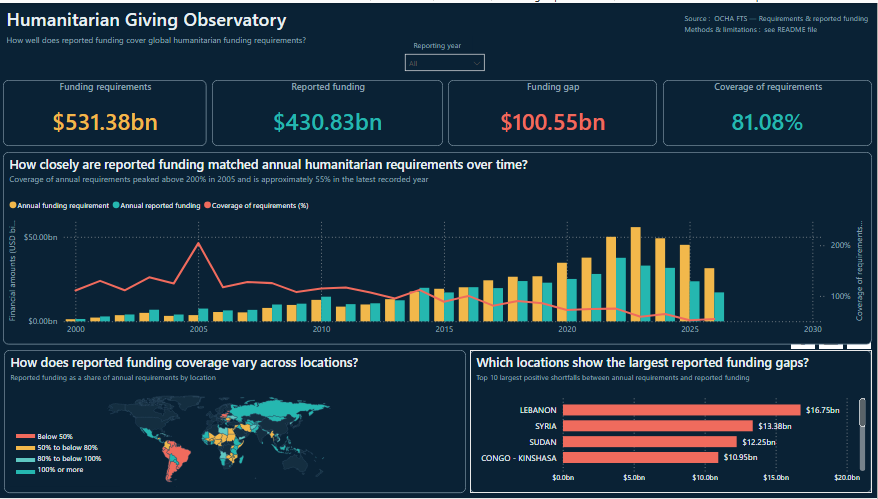

This screenshot's page, from the dashboard's own definition file:
{"tool":"powerbi","page":{"name":"Overview","canvas":[1280,720],"ordinal":0},"visuals":[{"type":"shapeMap","title":"How does reported funding coverage vary across locations?","fields":{"Category":["dim_requirements_location.country_name"]},"box":[9.8,504,672,208],"z":0,"group":"g2"},{"type":"clusteredBarChart","title":"Which locations show the largest reported funding gaps?","fields":{"Category":["dim_requirements_location.country_name"],"Y":["Measurements.funding_gap_shortfall"]},"box":[688,504,584,208],"z":0},{"type":"textbox","box":[17.8,616,160.4,86.7],"z":0,"group":"g1"},{"type":"group","id":"g1","title":"Group 1","box":[17.8,616,160.4,86.7],"z":1000,"group":"g2"},{"type":"shape","box":[27.2,616,28.3,26],"z":1000,"group":"g1"},{"type":"lineClusteredColumnComboChart","title":"How closely are reported funding matched annual humanitarian requirements over time? ","fields":{"Category":["fact_requirements_funding.reporting_year"],"Y":["Measurements.requirements_total","Measurements.requirements_reported_funding"],"Y2":["Measurements.coverage_percent"]},"box":[8,216,1264,280],"z":2000},{"type":"shape","box":[27.2,633.3,28.3,26],"z":2000,"group":"g1"},{"type":"group","id":"g2","title":"Map","box":[9.8,504,672,208],"z":3000},{"type":"shape","box":[27.2,650.7,28.3,26],"z":3000,"group":"g1"},{"type":"cardVisual","title":"Funding requirements","fields":{"Data":["Measurements.requirements_total"]},"box":[8,112,296,96],"z":4000},{"type":"shape","box":[27.2,668,28.3,26],"z":4000,"group":"g1"},{"type":"cardVisual","title":"Reported funding","fields":{"Data":["Measurements.requirements_reported_funding"]},"box":[312,112,336,96],"z":5000},{"type":"cardVisual","title":"Funding gap","fields":{"Data":["Measurements.funding_gap_shortfall"]},"box":[656,112,304,96],"z":6000},{"type":"cardVisual","title":"Coverage of requirements","fields":{"Data":["Measurements.coverage_percent"]},"box":[968,112,304,96],"z":7000},{"type":"textbox","box":[992,16,288,64],"z":9000},{"type":"textbox","box":[8,0,432,48],"z":11250},{"type":"textbox","box":[8,40,592,32],"z":11875},{"type":"textbox","box":[602,48,90.7,40],"z":12000,"group":"g3"},{"type":"slicer","fields":{"Values":["fact_requirements_funding.reporting_year"]},"box":[583.9,64,136,40],"z":12500,"group":"g3"},{"type":"group","id":"g3","title":"Slicer year","box":[583.9,48,136,56],"z":12501}]}

Visuals, with their boxes in screenshot pixels (x1, y1, x2, y2), scaled from the page's 1280x720 canvas onto the 878x499 screenshot:
"How does reported funding coverage vary across locations?" shapeMap: x1=7 y1=349 x2=468 y2=493
"Which locations show the largest reported funding gaps?" clusteredBarChart: x1=472 y1=349 x2=873 y2=493
textbox: x1=12 y1=427 x2=122 y2=487
"Group 1" group: x1=12 y1=427 x2=122 y2=487
shape: x1=19 y1=427 x2=38 y2=445
"How closely are reported funding matched annual humanitarian requirements over time? " lineClusteredColumnComboChart: x1=5 y1=150 x2=873 y2=344
shape: x1=19 y1=439 x2=38 y2=457
"Map" group: x1=7 y1=349 x2=468 y2=493
shape: x1=19 y1=451 x2=38 y2=469
"Funding requirements" cardVisual: x1=5 y1=78 x2=209 y2=144
shape: x1=19 y1=463 x2=38 y2=481
"Reported funding" cardVisual: x1=214 y1=78 x2=444 y2=144
"Funding gap" cardVisual: x1=450 y1=78 x2=658 y2=144
"Coverage of requirements" cardVisual: x1=664 y1=78 x2=873 y2=144
textbox: x1=680 y1=11 x2=877 y2=55
textbox: x1=5 y1=0 x2=302 y2=33
textbox: x1=5 y1=28 x2=412 y2=50
textbox: x1=413 y1=33 x2=475 y2=61
slicer - fact_requirements_funding.reporting_year: x1=401 y1=44 x2=494 y2=72
"Slicer year" group: x1=401 y1=33 x2=494 y2=72
